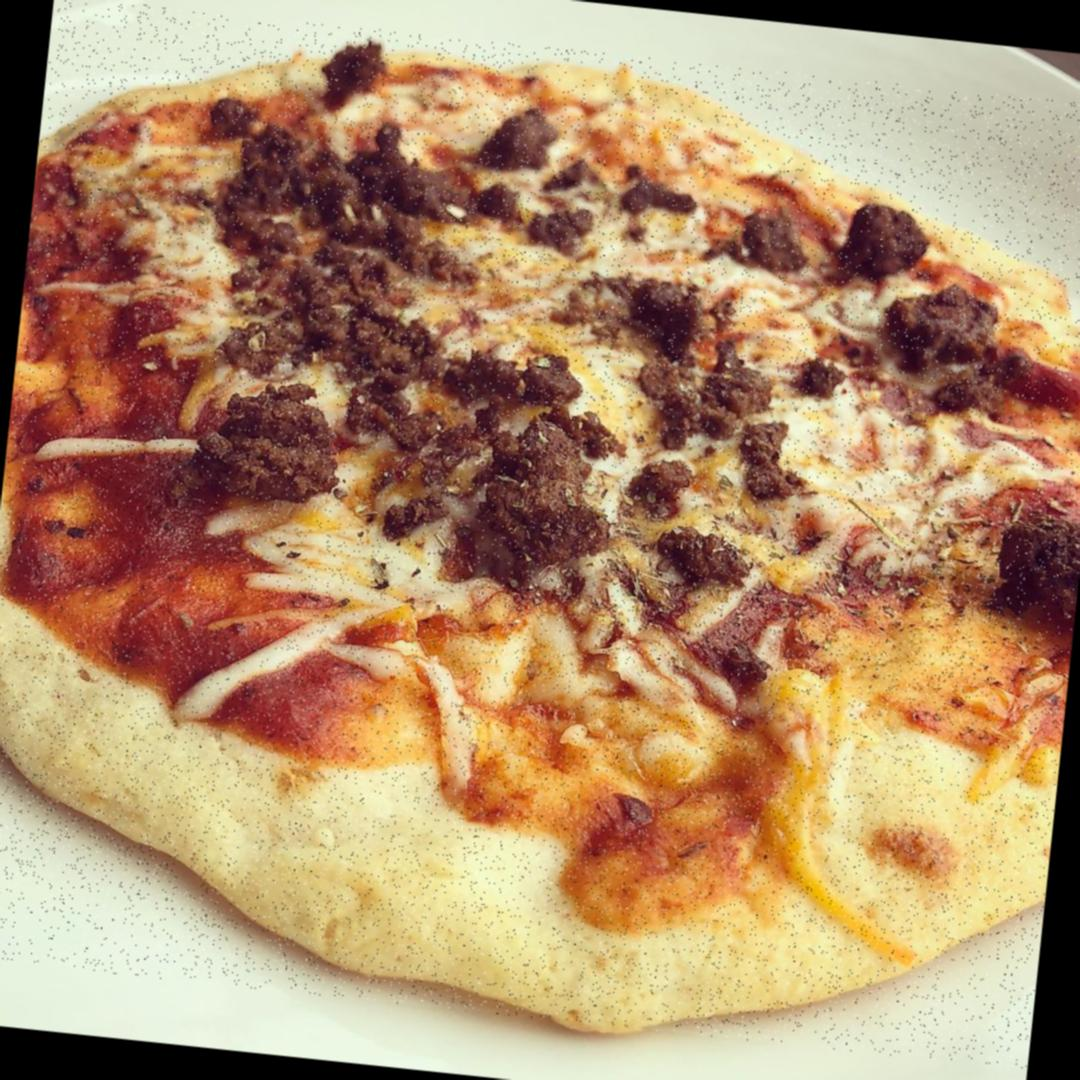Pizza: (0, 0, 1080, 1070)
